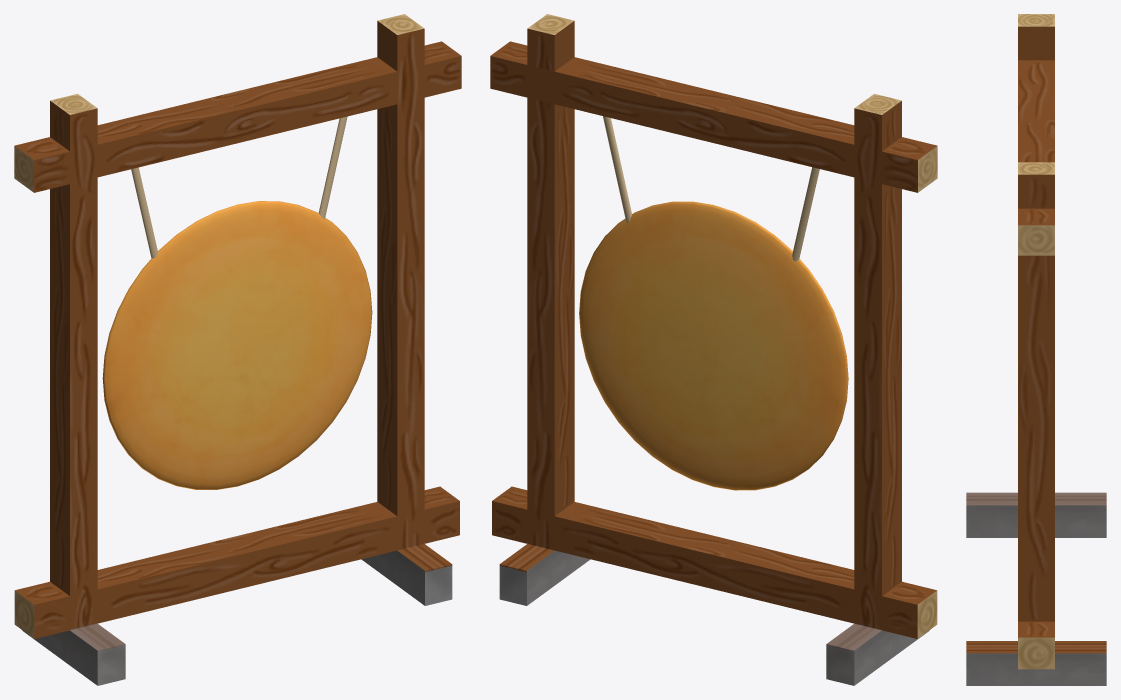
Rendered from Gong01.fbx.
3 views of the same model, side by side, from view 1: azimuth 30°, elevation 25°; view 2: azimuth 150°, elevation 25°; view 3: azimuth 270°, elevation 25° (orthographic). The views are drawn at different scales.
Parts seen in each view (by area): view 1: pCylinder3; view 2: pCylinder3; view 3: pCylinder3.
Part boxes in pixels (bbox=[...]): pCylinder3: bbox=[14, 14, 461, 685]; pCylinder3: bbox=[490, 14, 937, 685]; pCylinder3: bbox=[966, 14, 1106, 685].
Bounding box in the file's own units: 3.87 × 4.76 × 1.18.
